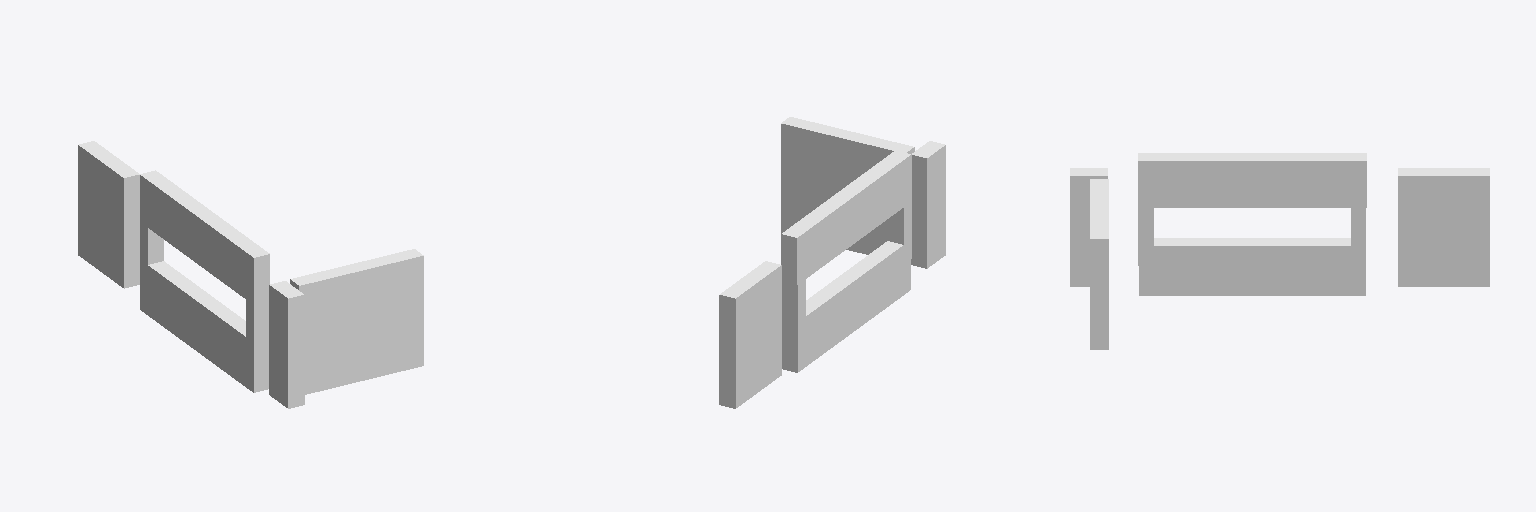
The model's file is wall1.obj.
3 views of the same model, side by side, from view 1: azimuth 30°, elevation 25°; view 2: azimuth 150°, elevation 25°; view 3: azimuth 270°, elevation 25° (orthographic).
Visible parts, largest first — view 1: Box; view 2: Box; view 3: Box.
Boxes of the visible parts, x1=… form: Box: x1=78, y1=141, x2=423, y2=408; Box: x1=719, y1=117, x2=945, y2=408; Box: x1=1070, y1=153, x2=1489, y2=349.
Size of the model in its own units: 8.95 by 7.94 by 22.37.